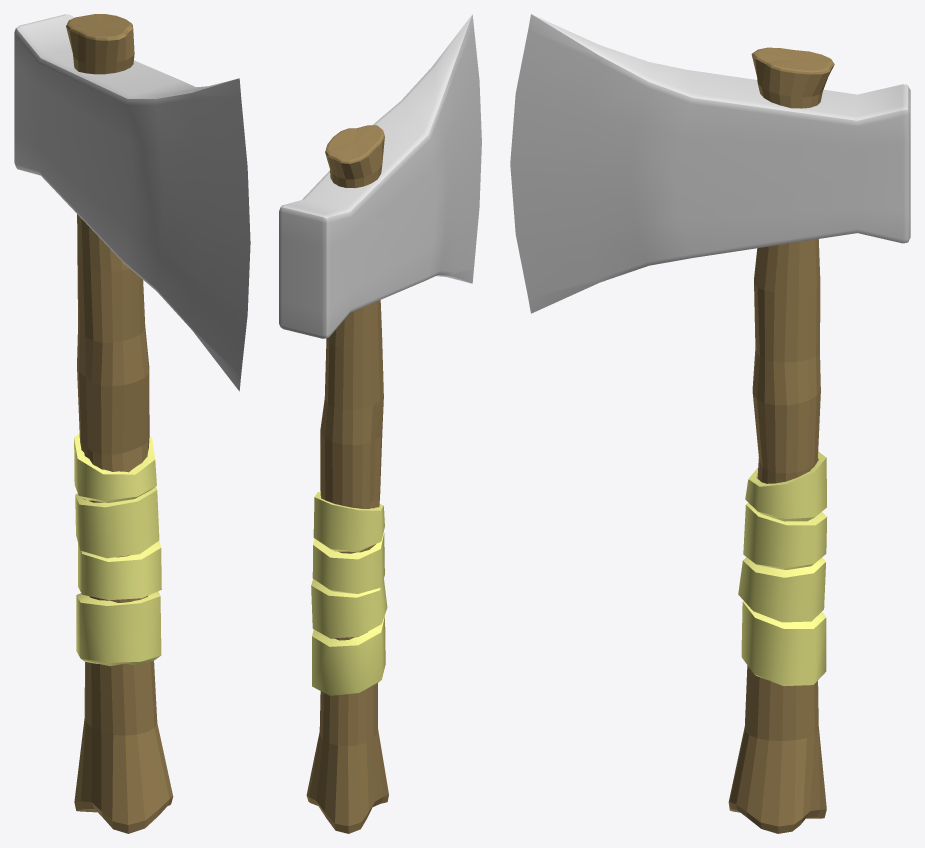
File: Axe_Middle.fbx
The picture shows the model from 3 angles, left to right: view 1: azimuth 30°, elevation 25°; view 2: azimuth 150°, elevation 25°; view 3: azimuth 270°, elevation 25°; orthographic projection. The views are drawn at different scales.
Visible parts, largest first — view 1: Axe_Middle; view 2: Axe_Middle; view 3: Axe_Middle.
Boxes of the visible parts, x1,y1,x2,y2 form: Axe_Middle: (14, 14, 250, 833); Axe_Middle: (279, 14, 481, 833); Axe_Middle: (510, 14, 910, 833).
Size of the model in its own units: 7.56 by 68.45 by 30.92.
